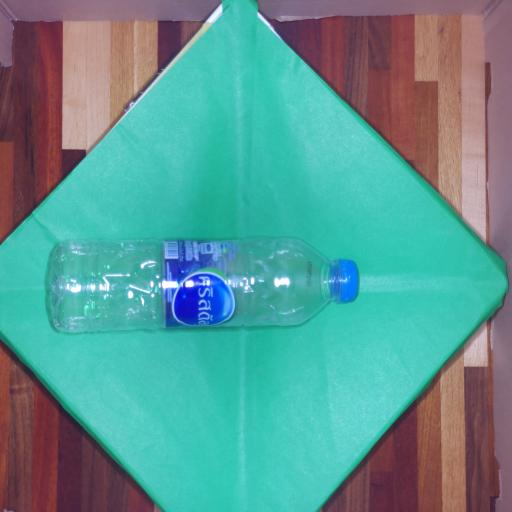bottle: (51, 238, 358, 332)
